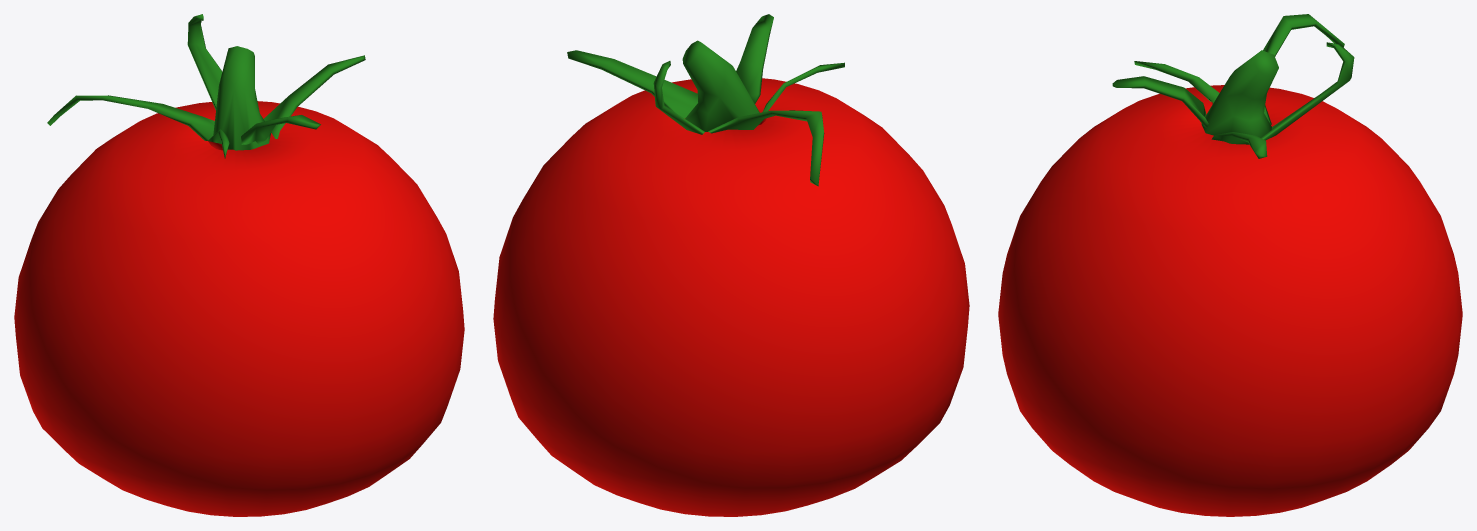
File: Tomato1.fbx
3 views of the same model, side by side, from view 1: azimuth 30°, elevation 25°; view 2: azimuth 150°, elevation 25°; view 3: azimuth 270°, elevation 25° (orthographic). The views are drawn at different scales.
Parts seen in each view (by area): view 1: Tomato; view 2: Tomato; view 3: Tomato.
Part boxes in pixels (left/top/right/bottom): Tomato: left=14, top=14, right=464, bottom=516; Tomato: left=493, top=14, right=969, bottom=516; Tomato: left=998, top=14, right=1462, bottom=516.
Size of the model in its own units: 529 by 565 by 529.
